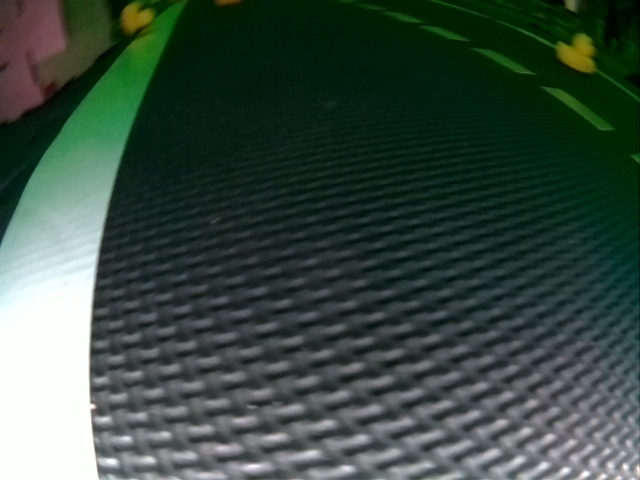Duckie: (556, 33, 593, 73), (120, 6, 153, 34)
